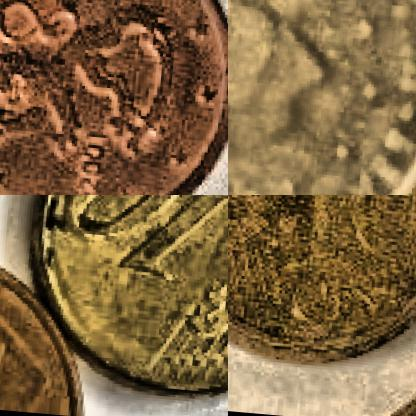coin: (17, 195, 227, 412), (0, 0, 227, 194), (228, 0, 415, 194), (228, 195, 415, 376)
